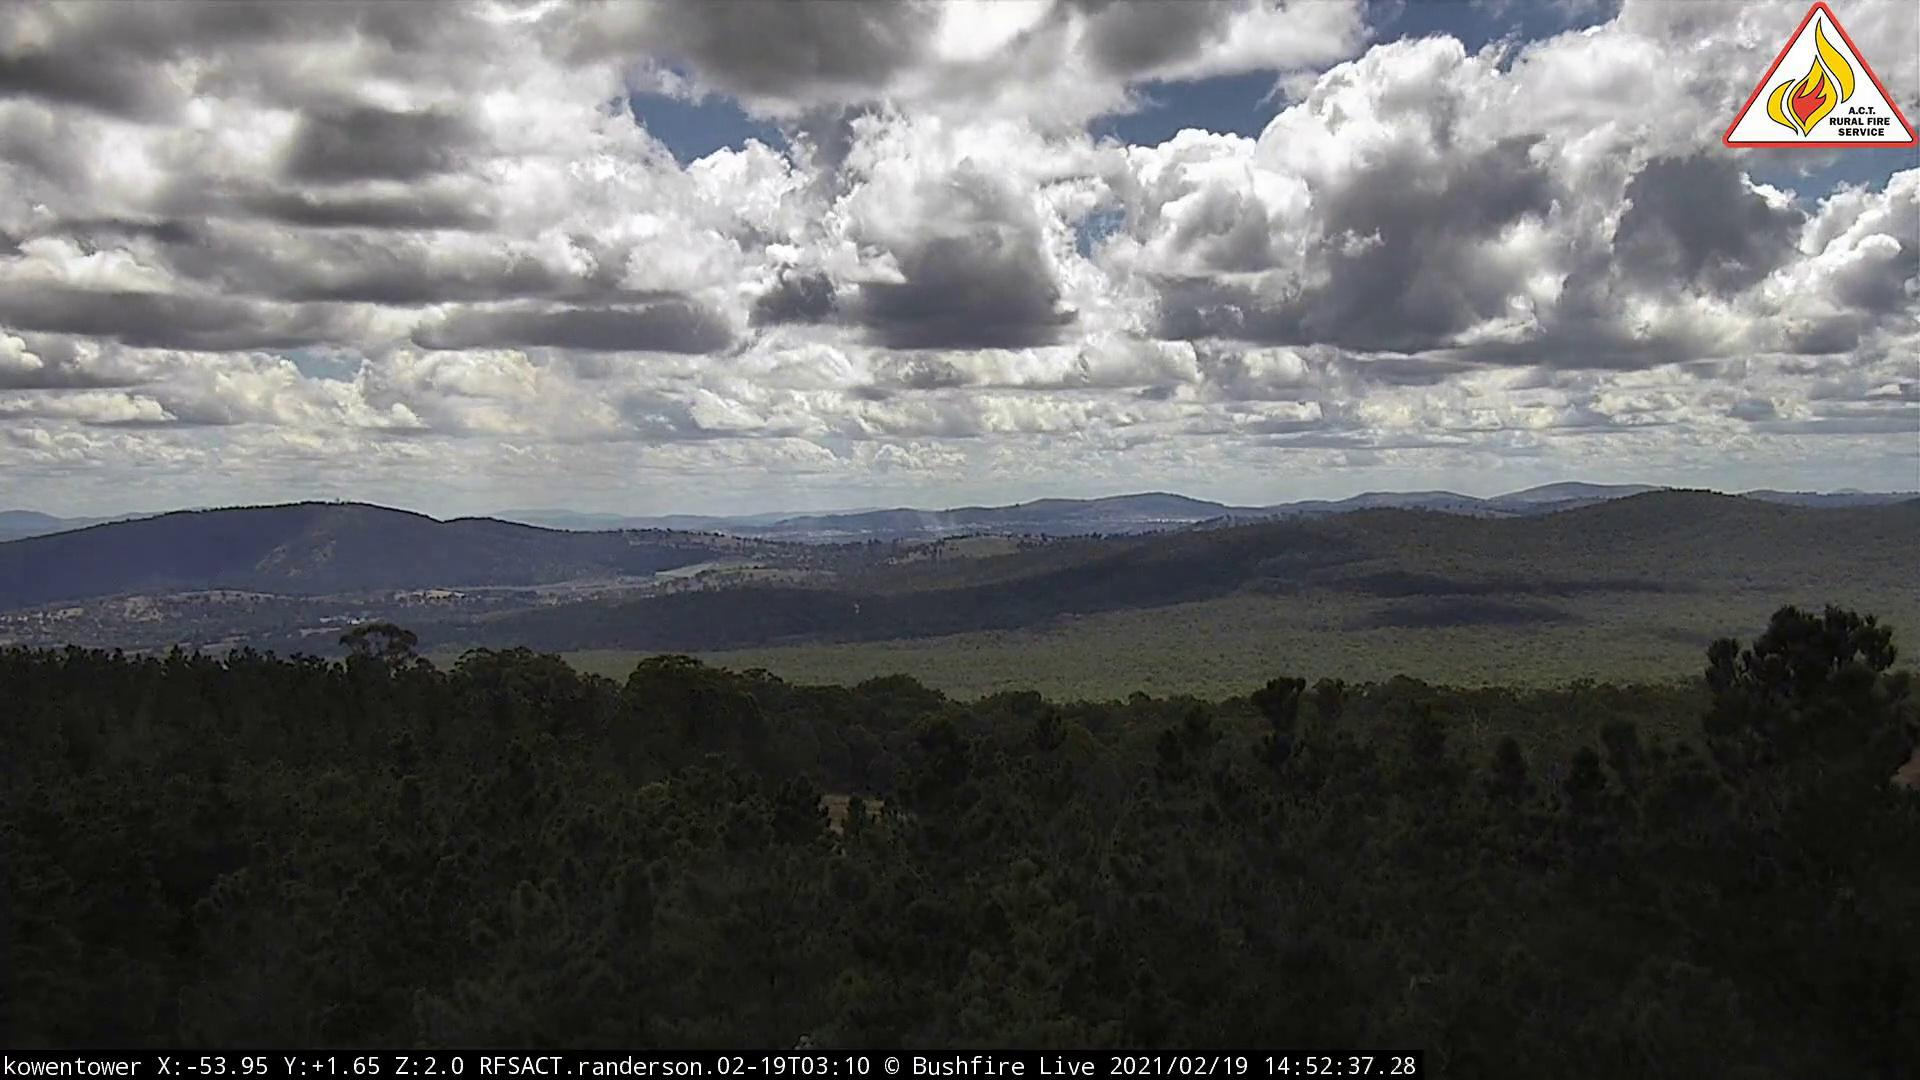Smoke: (492, 440, 968, 550)
